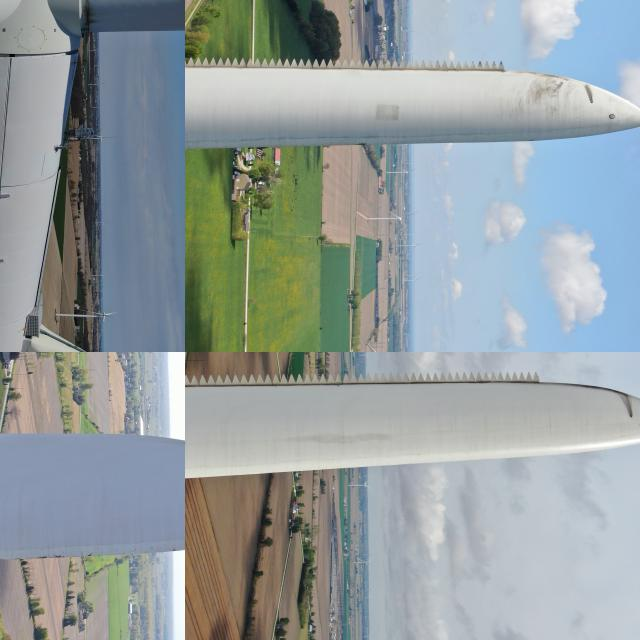damage: (80, 0, 105, 33), (614, 387, 636, 417), (580, 81, 596, 105), (629, 414, 633, 416)
